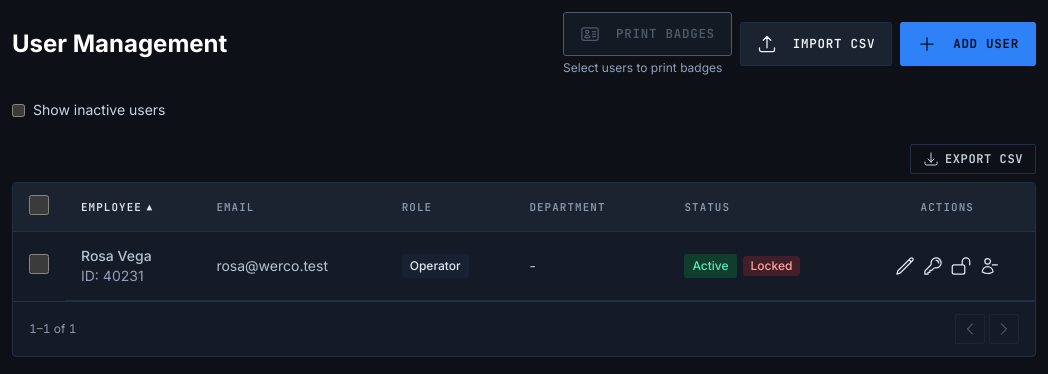
Test: Users failed-login lockout › failed unlock shows the server detail as an error toast and does not reload
Expected: the text "Rosa Vega" is shown, x1=81 y1=247 x2=152 y2=264
Step 1. Click the button named "Unlock user" → coordinates (961, 266), box x1=951 y1=256 x2=971 y2=276
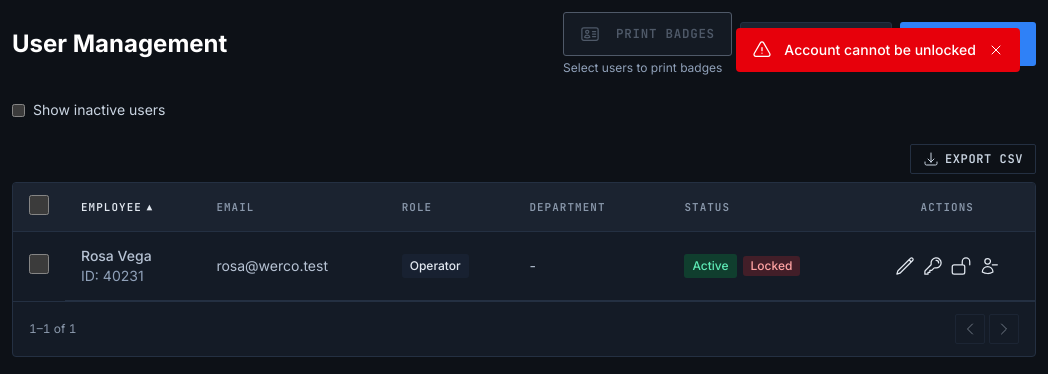
Expected: the text "locked" is shown, x1=743 y1=256 x2=800 y2=276
Result: the message reads "Account cannot be unlocked" at x1=784 y1=41 x2=976 y2=58
